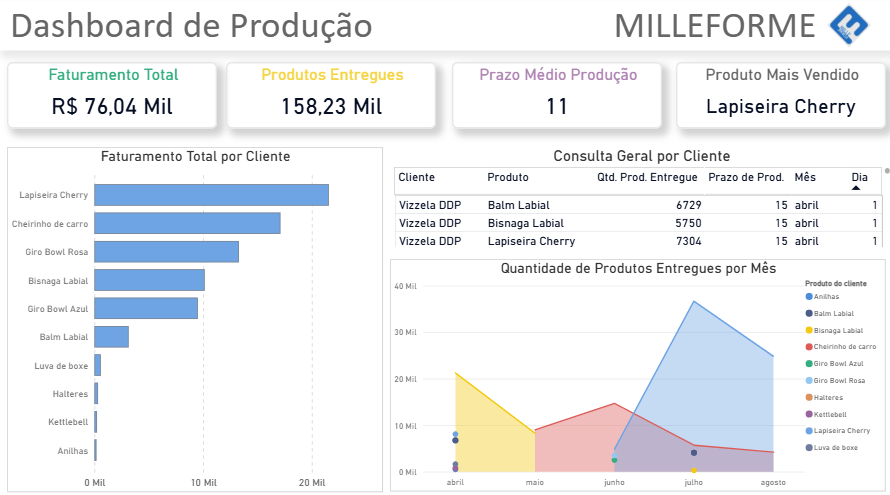

What the dashboard file says about the page in this screenshot:
{"tool":"powerbi","page":{"name":"Página 1","canvas":[1280,720],"ordinal":0},"visuals":[{"type":"card","title":"Faturamento Total","fields":{"Values":["Fato_Producao.Total R$"]},"box":[13.2,90.7,300,95.1],"z":0},{"type":"textbox","box":[0,0,1280.5,74.6],"z":1000},{"type":"barChart","title":"Faturamento Total por Cliente","fields":{"Category":["Dim_Produto.Produto do cliente"],"Y":["Sum(Fato_Producao.Valor total)"]},"box":[13.2,212.2,537.1,493.2],"z":2000},{"type":"card","title":"Prazo Médio Produção","fields":{"Values":["Avg(Fato_Producao.PrazoProducao)"]},"box":[648.3,90.7,300,95.1],"z":3000},{"type":"card","title":"Produtos Entregues","fields":{"Values":["Sum(Fato_Producao.Qtd. Produto Entregue )"]},"box":[326.3,90.7,300,95.1],"z":4000},{"type":"card","title":"Produto Mais Vendido","fields":{"Values":["Fato_Producao.Produto mais vendido"]},"box":[968.8,90.7,300,95.1],"z":5000},{"type":"areaChart","title":"Quantidade de Produtos Entregues por Mês","fields":{"Y":["Sum(Fato_Producao.Qtd. Produto Entregue )"],"Series":["Dim_Produto.Produto do cliente"],"Category":["Fato_Producao.Data Entrega.Variation.Hierarquia de datas.Mês"]},"box":[560.5,373.2,708.3,332.2],"z":6000},{"type":"tableEx","title":"Consulta Geral por Cliente","fields":{"Values":["Dim_Cliente.Cliente","Dim_Produto.Produto do cliente","Sum(Fato_Producao.Qtd. Produto Entregue )","Sum(Fato_Producao.PrazoProducao)","Fato_Producao.Data Entrega.Variation.Hierarquia de datas.Mês","Fato_Producao.Data Entrega.Variation.Hierarquia de datas.Dia"]},"box":[560.5,212.2,720,147.8],"z":7000},{"type":"image","box":[1150.2,0,130.2,74.6],"z":8000}]}

Visuals, with their boxes in screenshot pixels (x1, y1, x2, y2), scaled from the page's 1280x720 canvas onto the 890x495 screenshot:
"Faturamento Total" card: 9:62:218:128
textbox: 0:0:889:51
"Faturamento Total por Cliente" barChart: 9:146:383:485
"Prazo Médio Produção" card: 451:62:659:128
"Produtos Entregues" card: 227:62:435:128
"Produto Mais Vendido" card: 674:62:882:128
"Quantidade de Produtos Entregues por Mês" areaChart: 390:257:882:485
"Consulta Geral por Cliente" tableEx: 390:146:889:248
image: 800:0:889:51
